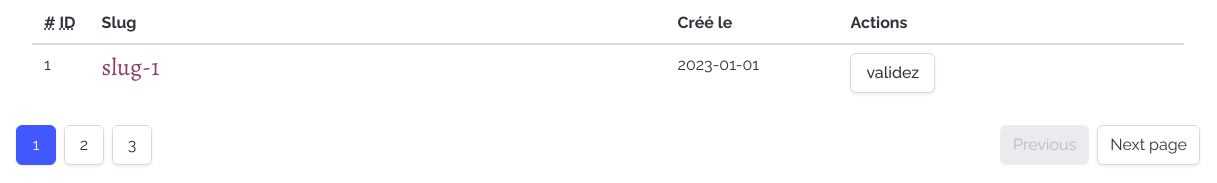
Scenario: PaginatedSearchDisplay › shows correct items after changing page multiple times
This screenshot has width=1217, height=183.
Expected: the heading "slug-1" is shown, [102,51,159,83]
// Go to page 2
Click the button with test id "next-button".
click(1149, 145)  # box [1097,125,1200,165]
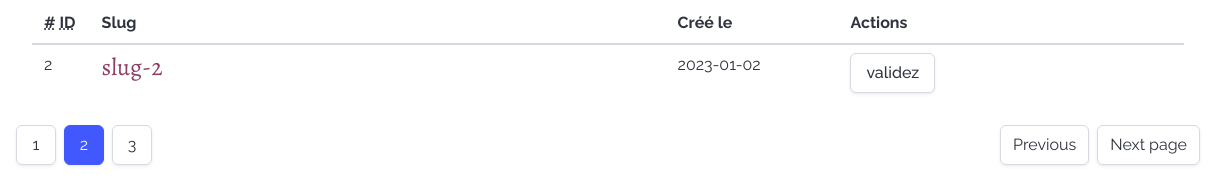
Now the heading "slug-2" is shown, box [102,51,163,83]
Now the heading "slug-1" is gone
// Go to page 3
Click the button with test id "next-button".
click(1149, 145)  # box [1097,125,1200,165]
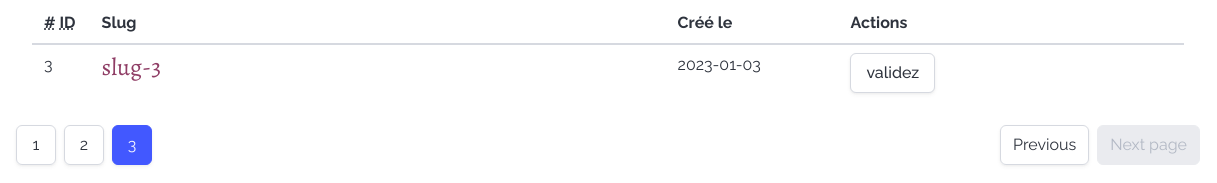
Now the heading "slug-3" is shown, box [102,51,161,83]
Now the heading "slug-2" is gone
